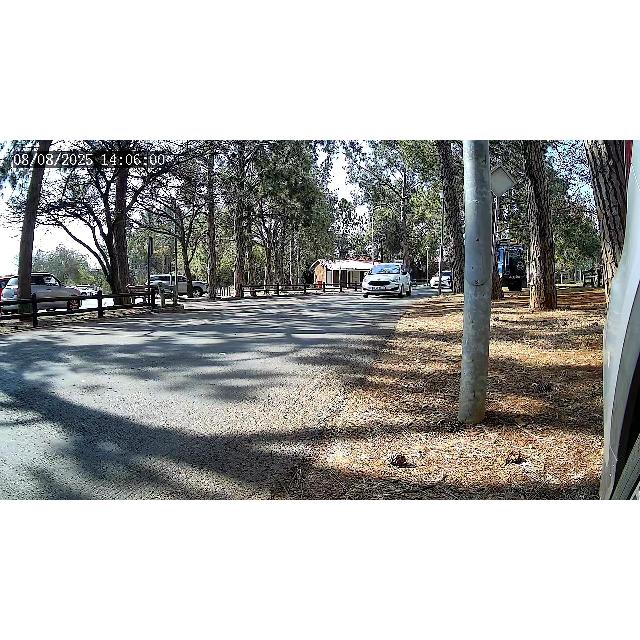car: (0, 272, 82, 316), (361, 263, 411, 297)
